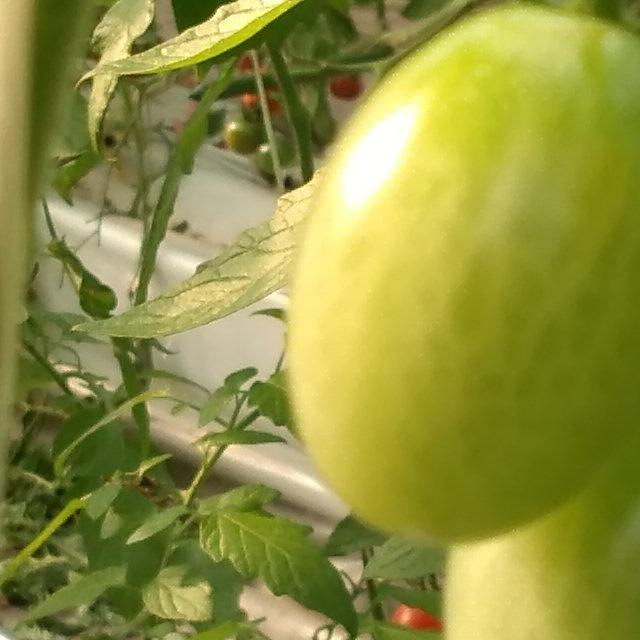tomato: (170, 0, 640, 640)
